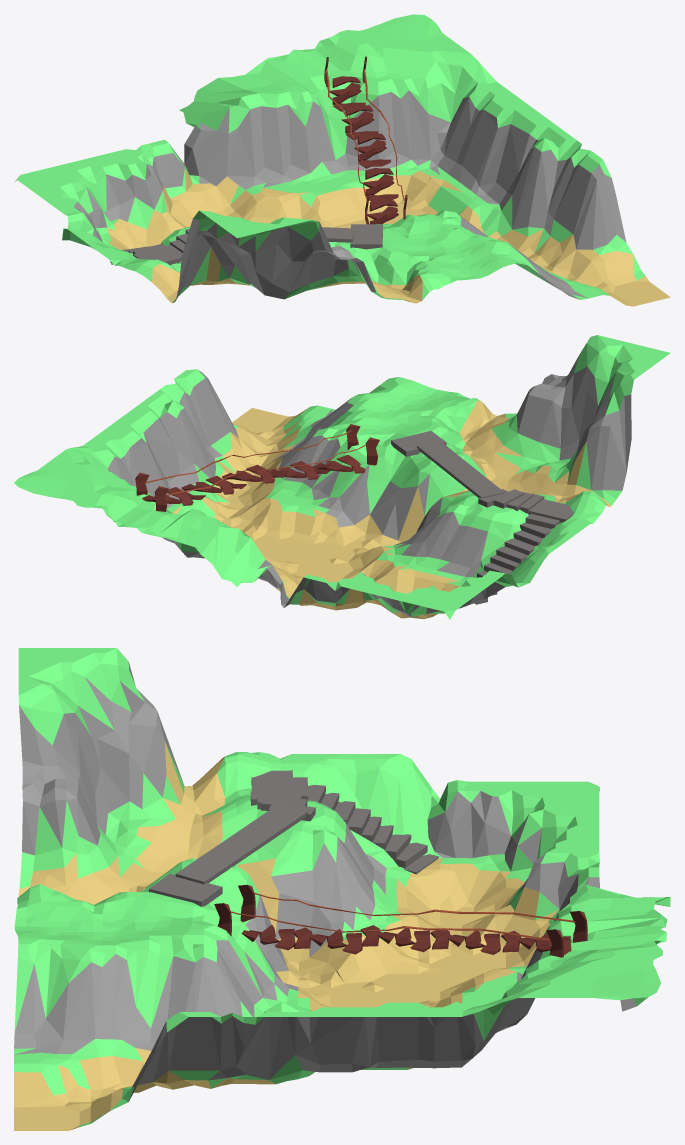
Rendered from mapa.fbx.
3 views of the same model, one above another, from view 1: azimuth 30°, elevation 25°; view 2: azimuth 150°, elevation 25°; view 3: azimuth 270°, elevation 25° (orthographic). The views are drawn at different scales.
Visible parts, largest first — view 1: Cube, Cubo.040, Cubo.034; view 2: Cube, Cubo.039, Cubo.040, Cubo.034; view 3: Cube, Cubo.039, Cubo.040, Cubo.034, Cilindro.001, Cilindro.
Boxes of the visible parts, x1,y1,x2,y2 form: Cube: [15, 14, 670, 306]; Cubo.040: [350, 224, 382, 249]; Cubo.034: [133, 244, 182, 264]; Cube: [14, 335, 670, 619]; Cubo.039: [417, 440, 504, 498]; Cubo.040: [391, 431, 446, 456]; Cubo.034: [528, 499, 573, 522]; Cube: [14, 648, 670, 1130]; Cubo.039: [175, 803, 308, 884]; Cubo.040: [149, 873, 222, 906]; Cubo.034: [251, 770, 293, 791]; Cilindro.001: [231, 911, 550, 941]; Cilindro: [254, 892, 575, 922].
Bounding box in the file's own units: 7714 × 2691 × 7471.
